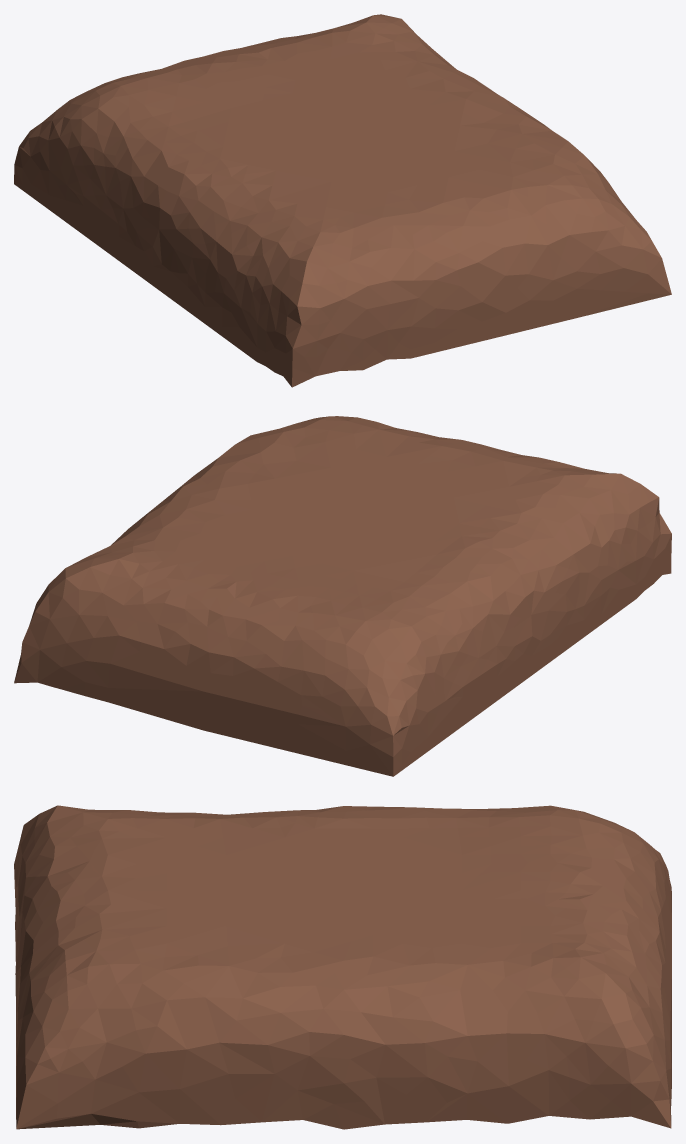
File: GravePlot.fbx
The picture shows the model from 3 angles, top to bottom: view 1: azimuth 30°, elevation 25°; view 2: azimuth 150°, elevation 25°; view 3: azimuth 270°, elevation 25°; orthographic projection. The views are drawn at different scales.
Parts seen in each view (by area): view 1: GravePlot; view 2: GravePlot; view 3: GravePlot.
Part boxes in pixels (<box>): GravePlot: <box>14,14,671,387</box>; GravePlot: <box>14,416,671,776</box>; GravePlot: <box>14,805,671,1129</box>.
Bounding box in the file's own units: 88.87 × 25.21 × 112.
